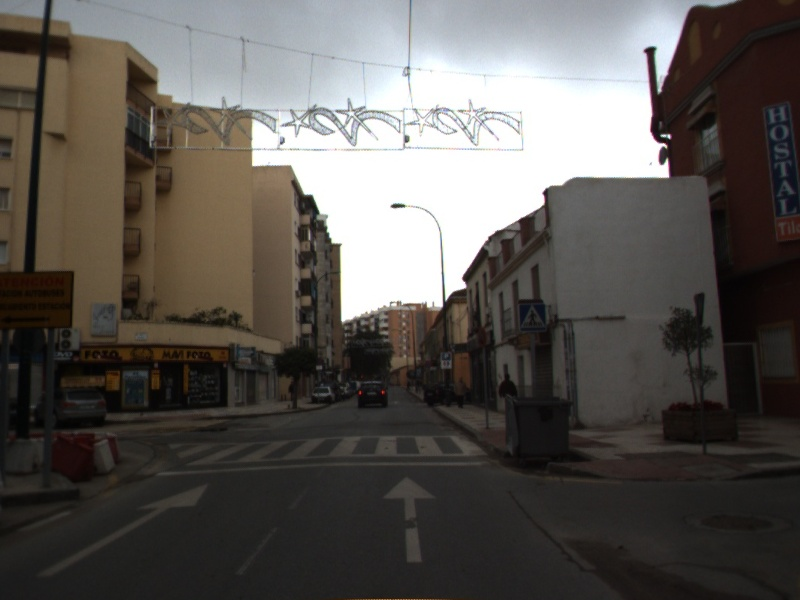STRAIGHT: (31, 482, 210, 580), (380, 474, 439, 565)
